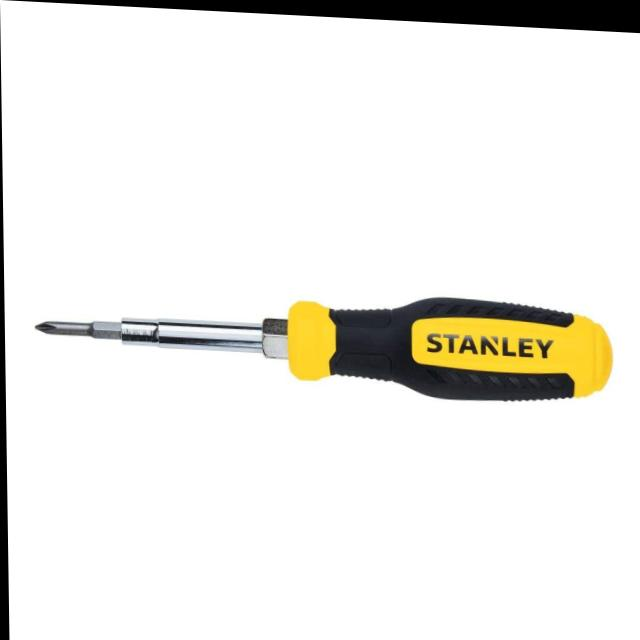Screwdriver: (36, 293, 611, 395)
